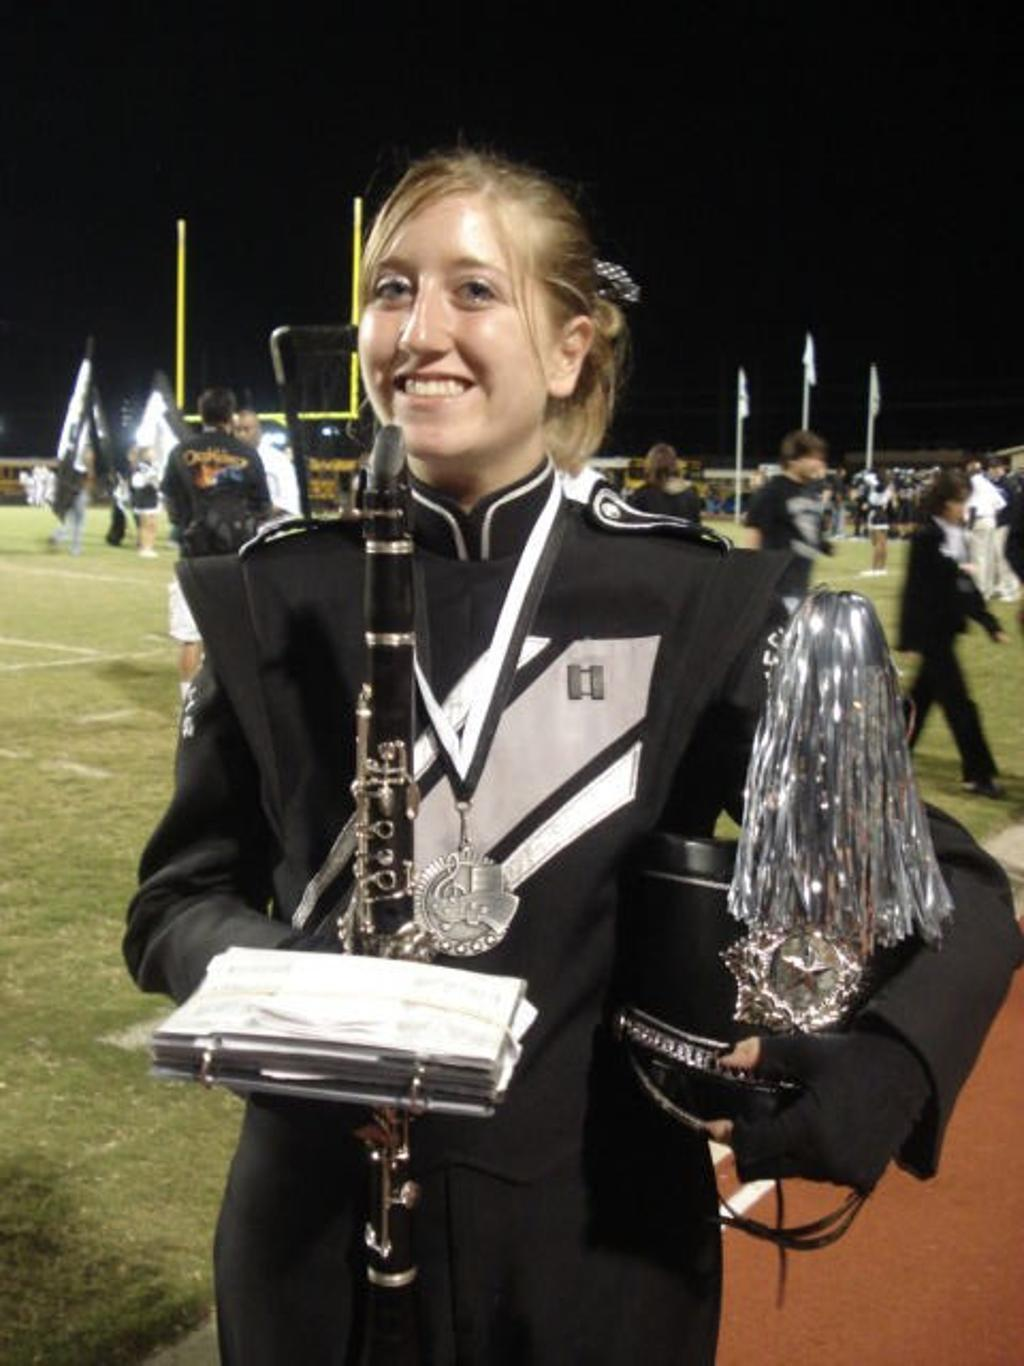face: (364, 201, 543, 457)
